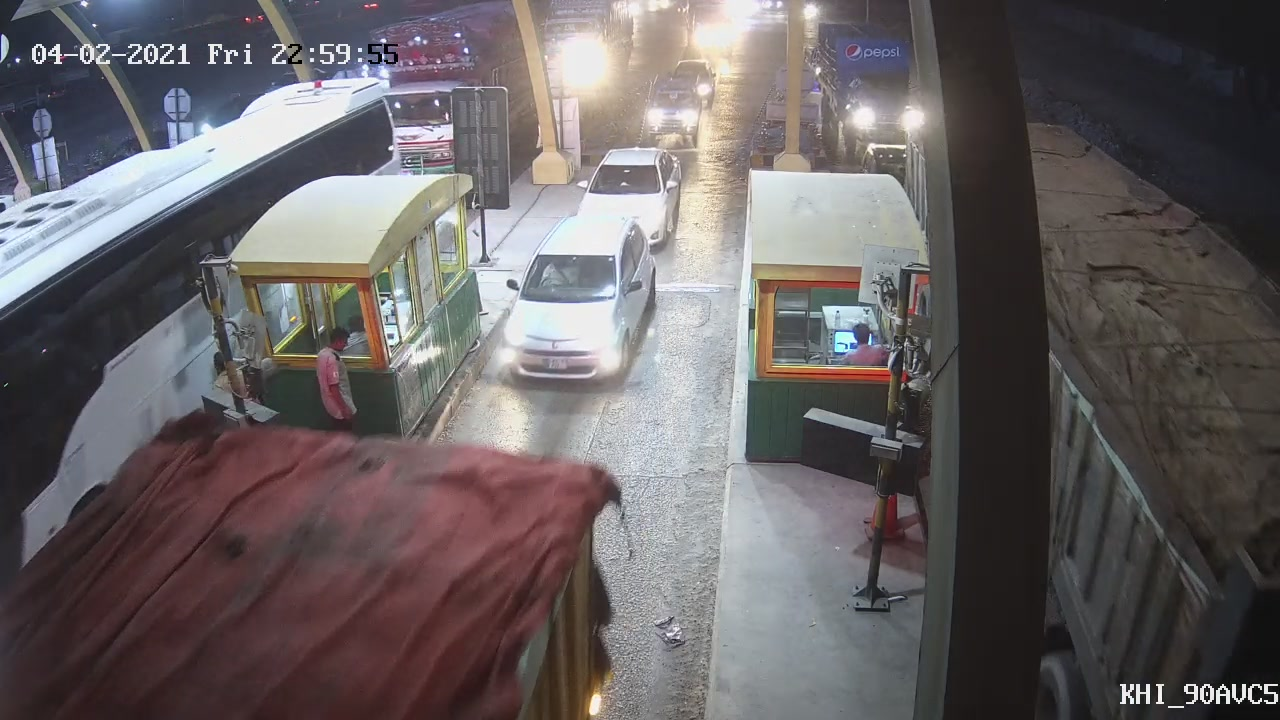F1: (494, 211, 660, 390)
